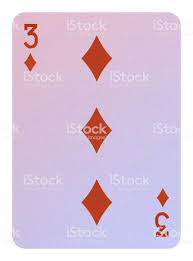three of diamonds: (11, 13, 181, 248)
